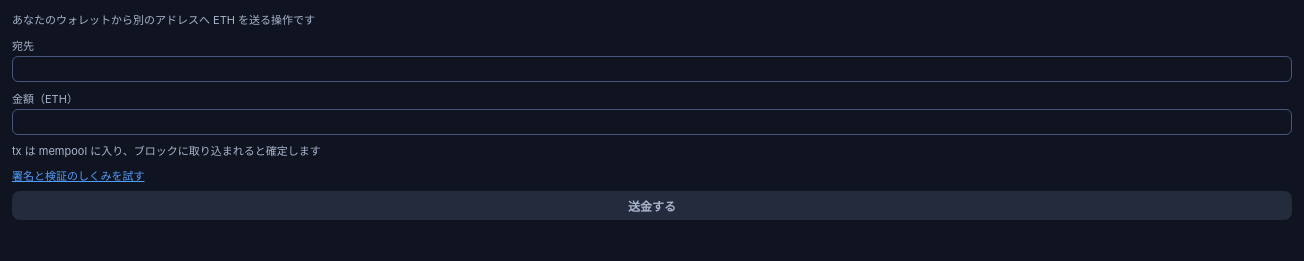
it: TransferForm (ARCHITECTURE.md §6.5-1) › hides the destination validation message and re-enables submit once the address is corrected
This screenshot has width=1304, height=261.
Type "0x123" into the field with test id "operation-transfer-to" at point(652, 68), box left=12, top=56, right=1292, bottom=82
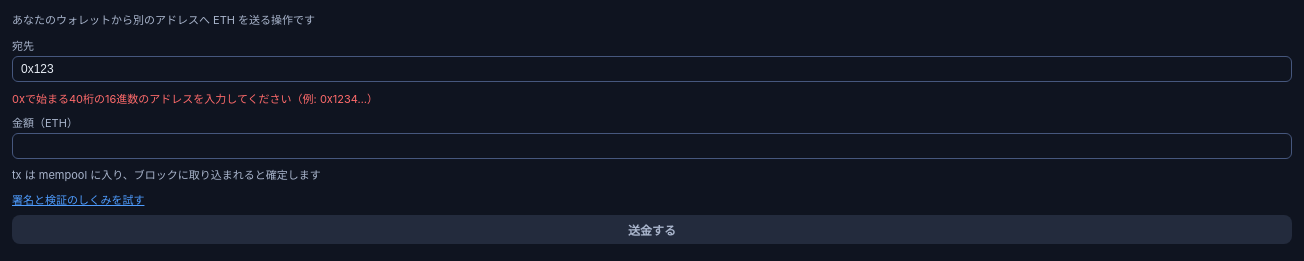
Type "1" into the field with test id "operation-transfer-amount" at point(652, 146), box left=12, top=132, right=1292, bottom=158
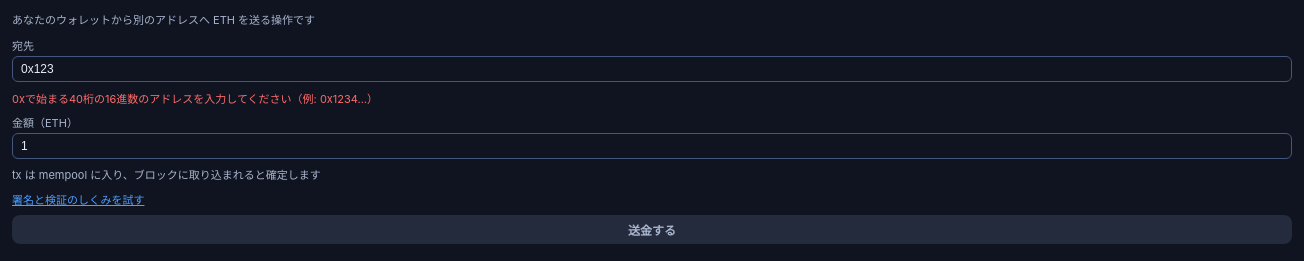
Result: the text "0xで始まる40桁の16進数のアドレスを入力してください（例: 0x1234…）" is shown at left=12, top=92, right=378, bottom=106
Replace the text in the field with test id "operation-transfer-to" with "0xbbbbbbbbbbbbbbbbbbbbbbbbbbbbbbbbbbbbbbbb" at point(652, 68), box left=12, top=56, right=1292, bottom=82
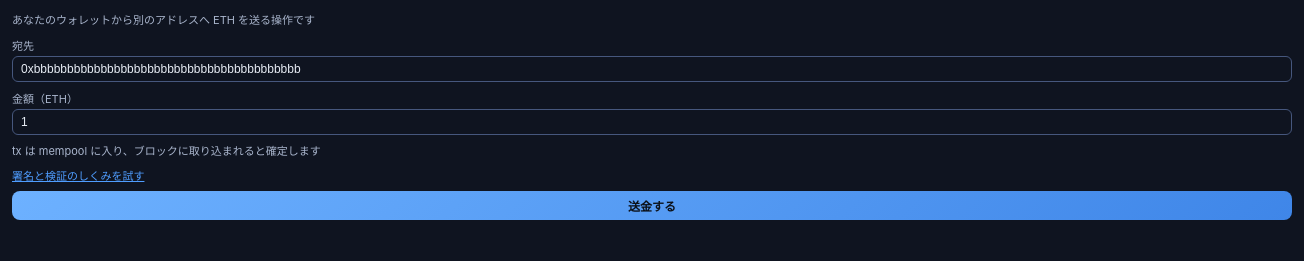
Result: the text with test id "operation-transfer-to-error" is gone
Result: the button "送金する" is enabled at left=12, top=191, right=1292, bottom=220
